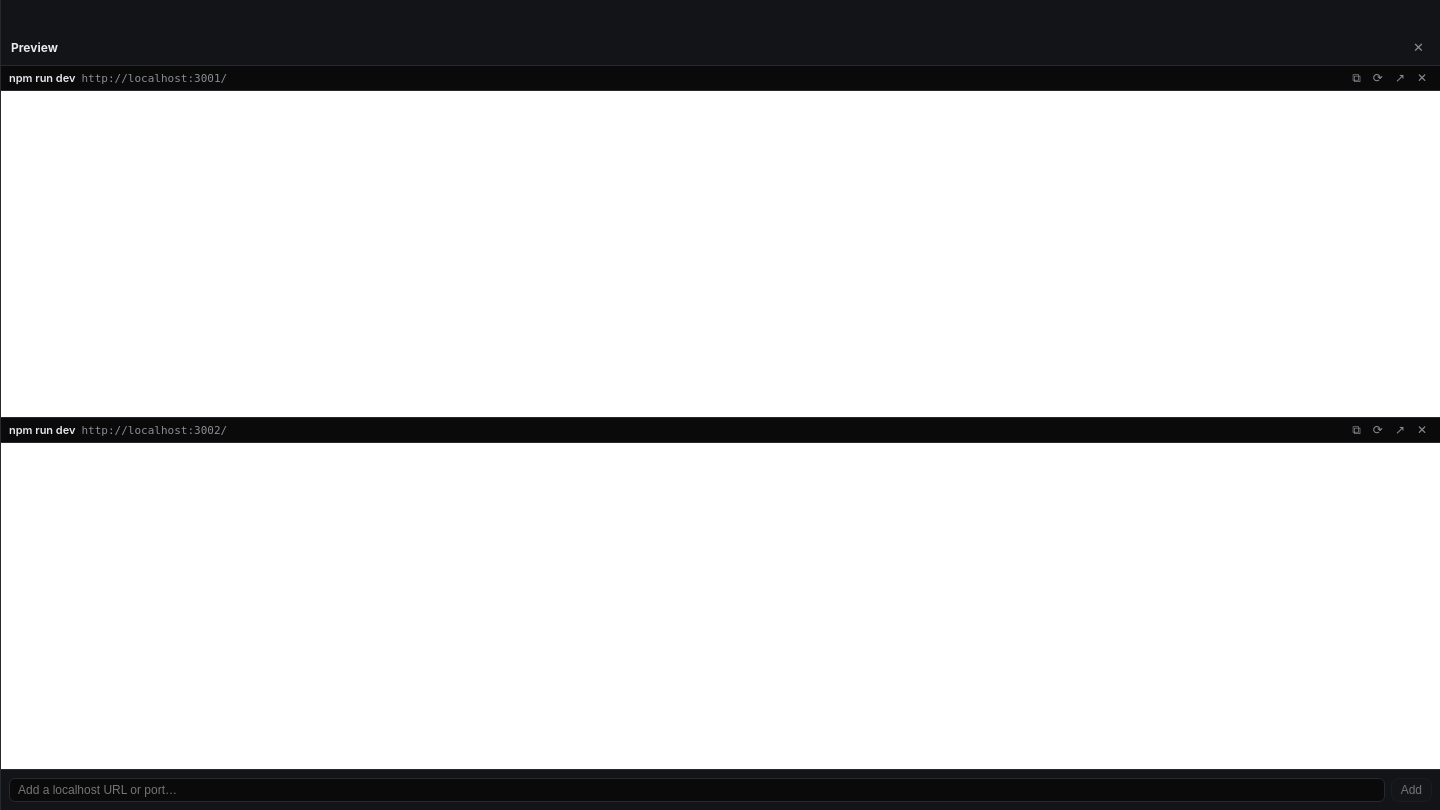
Test: PreviewDock › closes one server pane without touching the other, and shows it again on request
The image size is (1440, 810).
Click the button named "Close preview of localhost:3002": x=1422, y=430 [1412,422,1432,438]
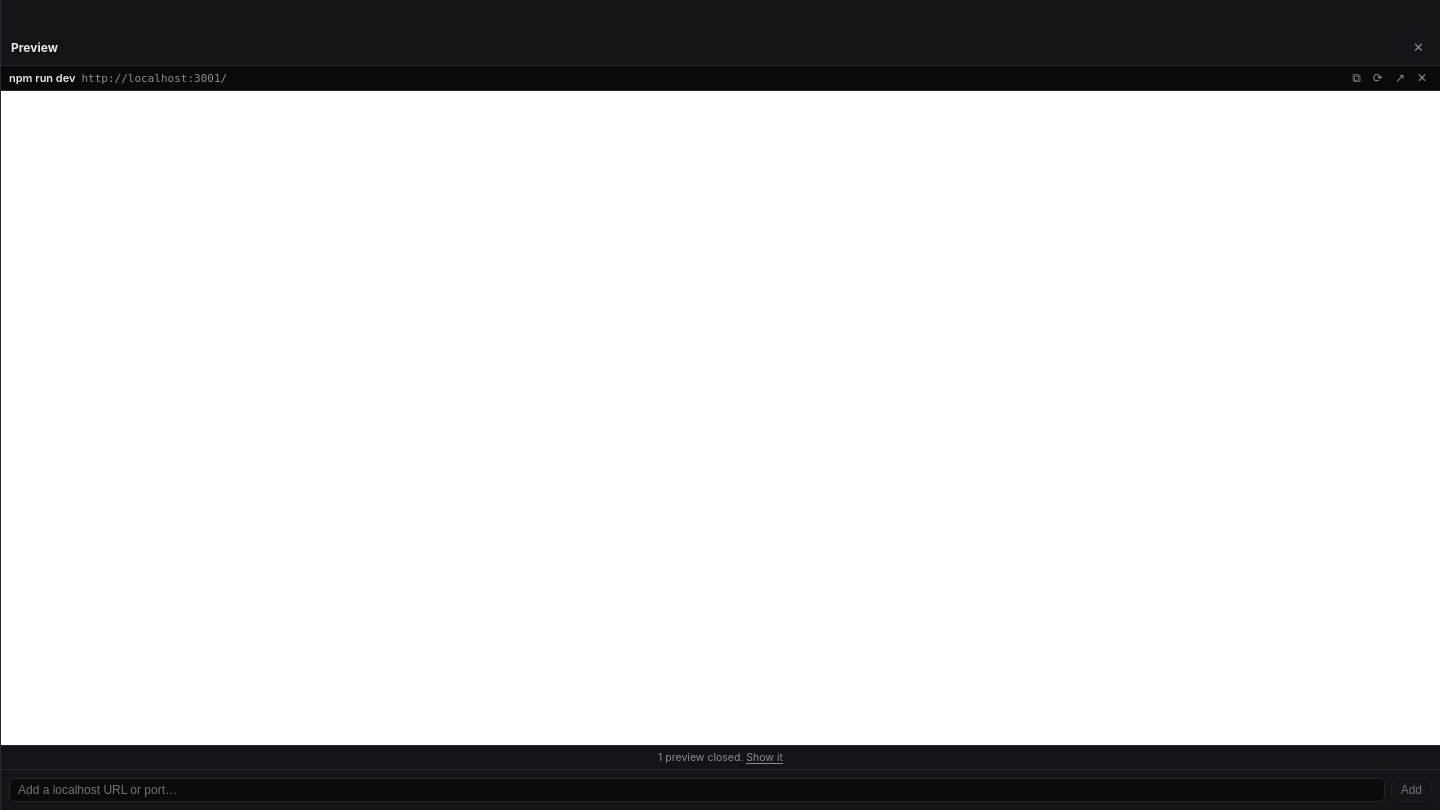
Expected: the text "http://localhost:3001/" is shown, [82,72,227,84]
Expected: the text "http://localhost:3002/" is gone
Expected: the text "1 preview closed. Show it" is shown, [1,745,1439,769]
Click the button "Show it": x=765, y=758 [746,751,783,764]
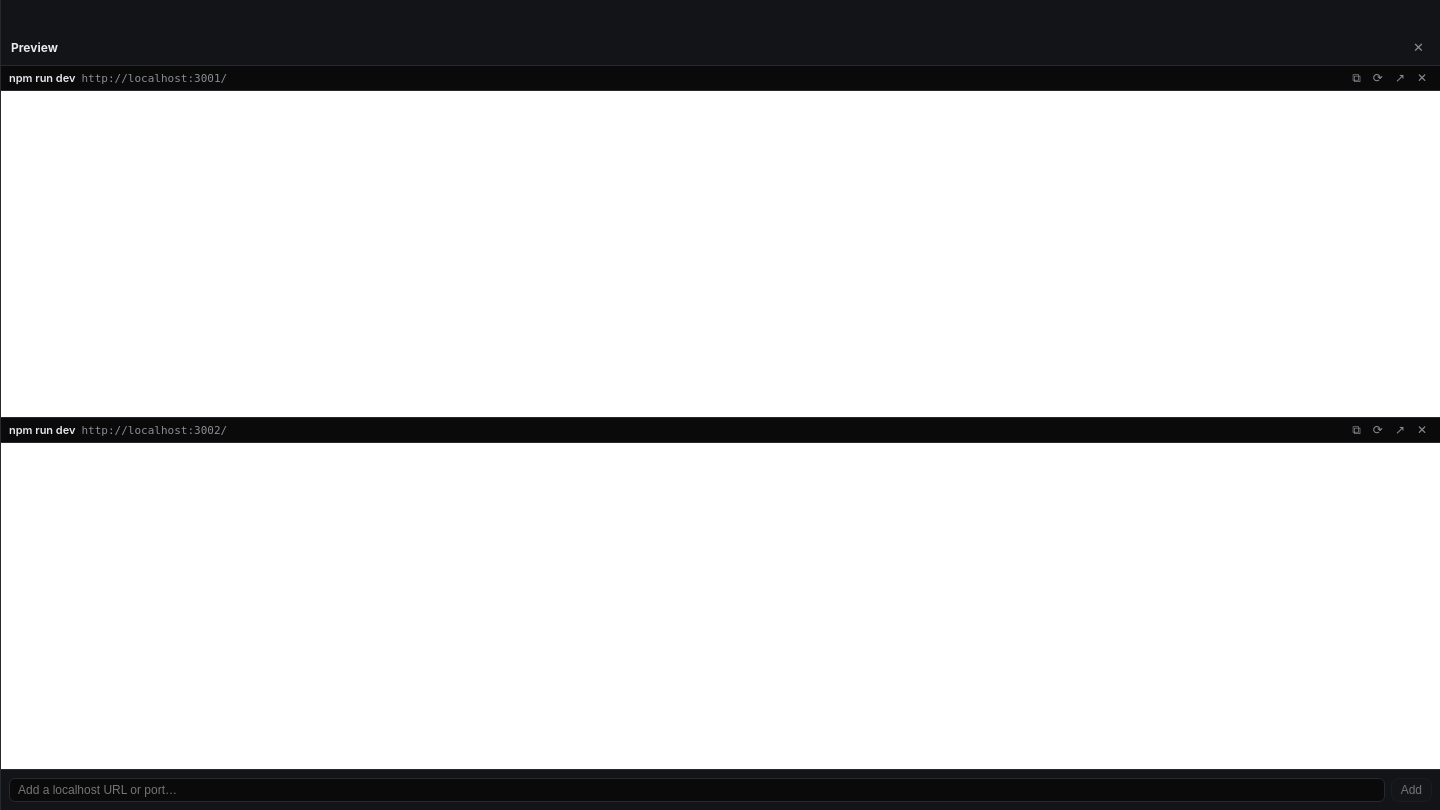
Expected: the text "http://localhost:3002/" is shown, [82,424,227,436]
Expected: the text "preview closed" is gone
